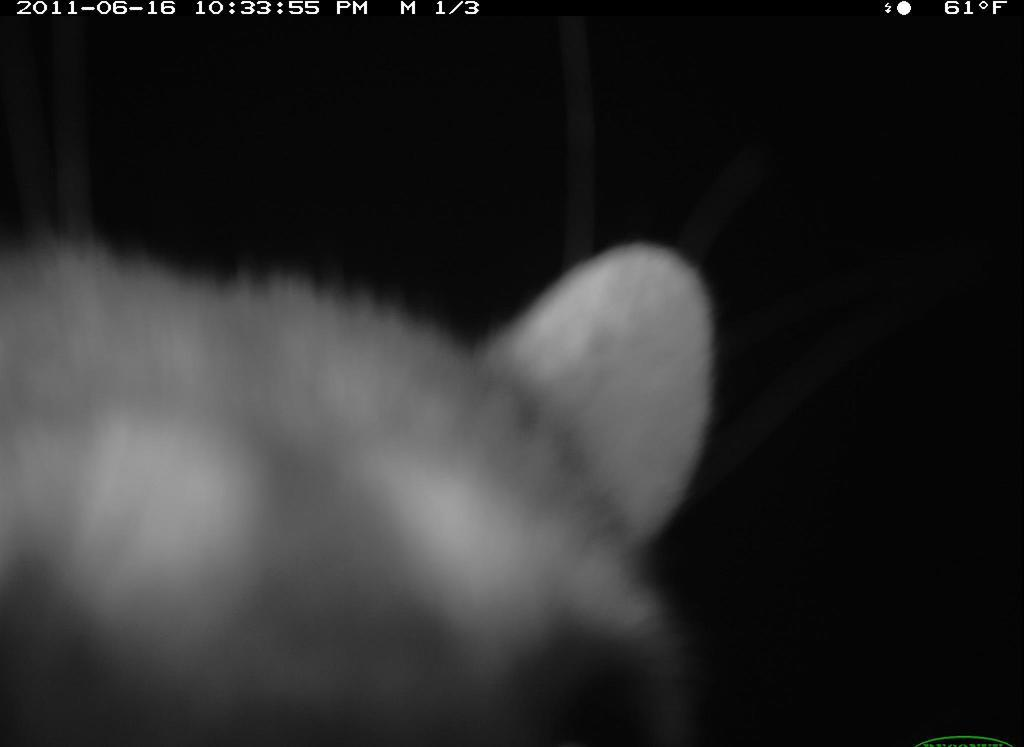raccoon: (1, 207, 757, 738)
